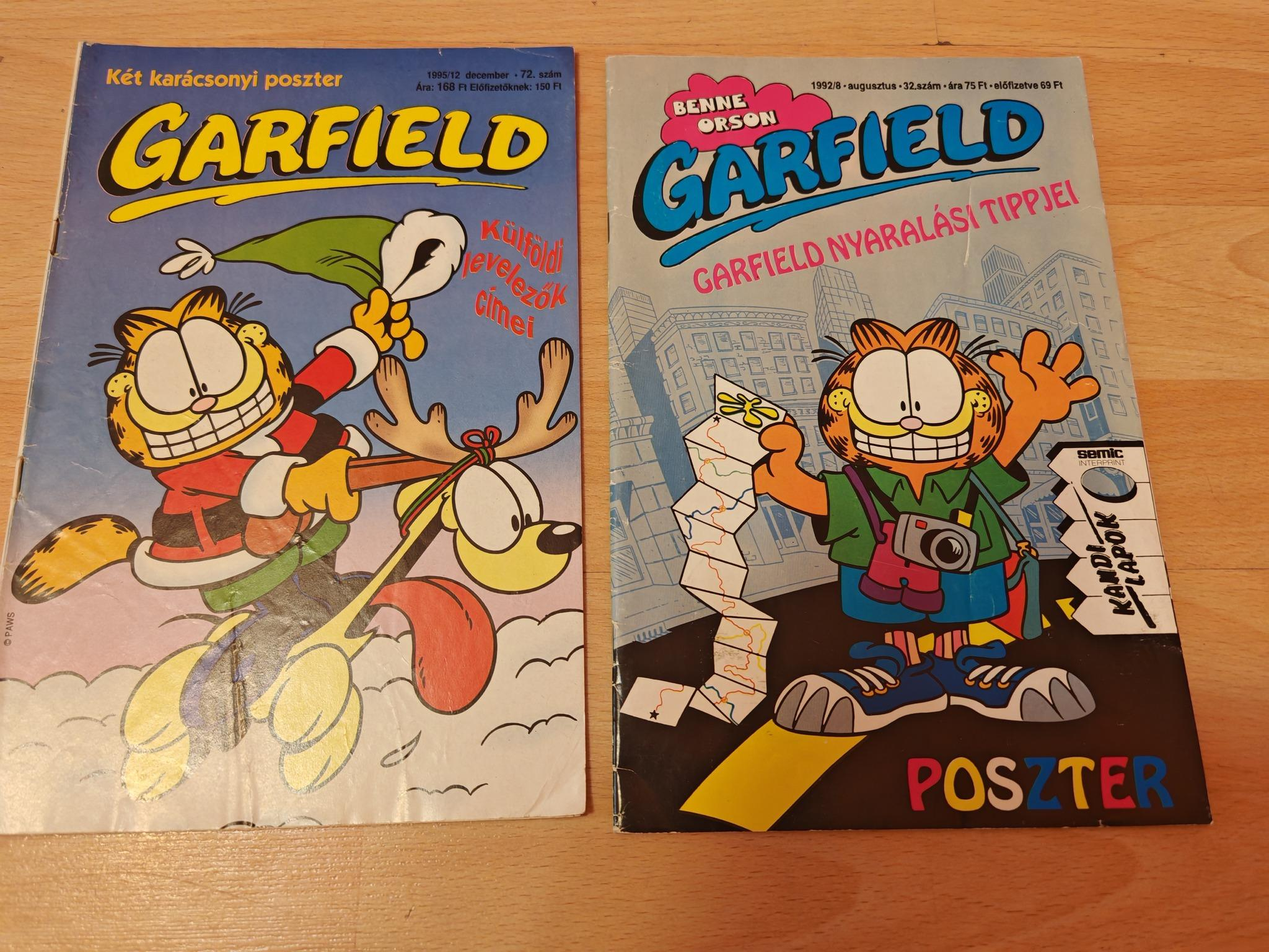comic: (604, 49, 1209, 831), (0, 41, 584, 831)
